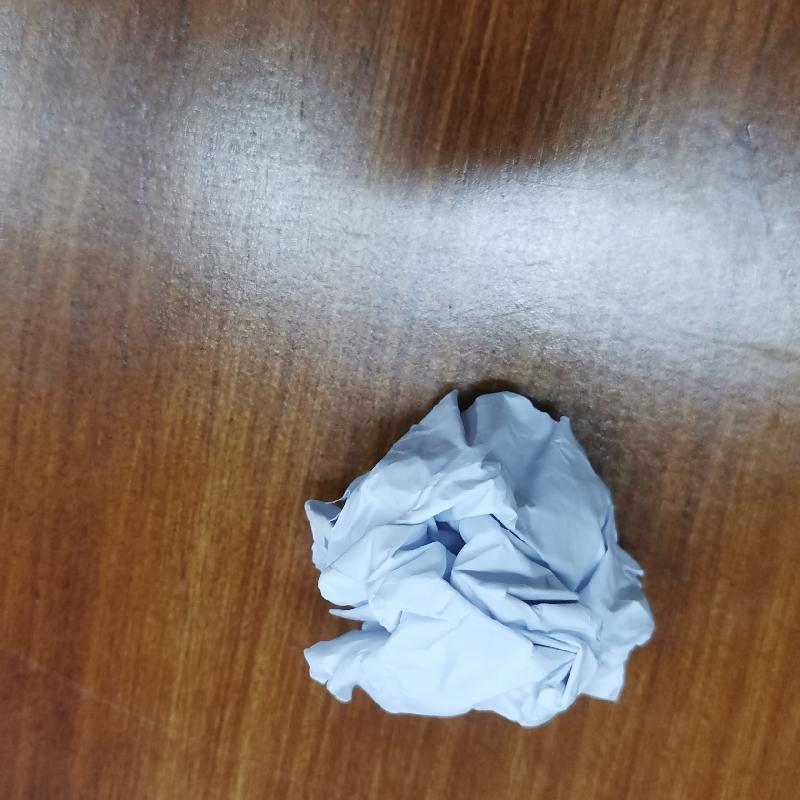spitball: (295, 381, 660, 729)
